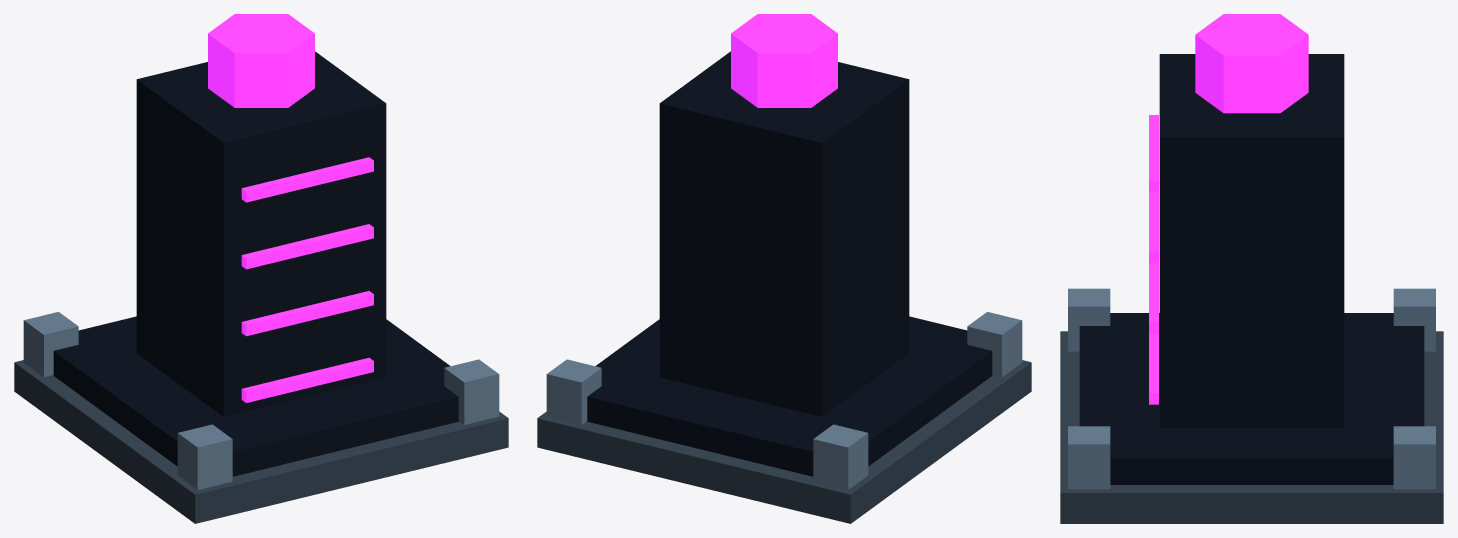
File: archive_low.glb
3 views of the same model, side by side, from view 1: azimuth 30°, elevation 25°; view 2: azimuth 150°, elevation 25°; view 3: azimuth 270°, elevation 25° (orthographic). The views are drawn at different scales.
Parts seen in each view (by area): view 1: Archive shell, Undercarriage, Foundation, Archive beacon, Corner lock.001, Corner lock.003, Corner lock, Repository slot.001, Repository slot.003, Repository slot, Repository slot.002; view 2: Archive shell, Undercarriage, Foundation, Archive beacon, Corner lock, Corner lock.002, Corner lock.001; view 3: Archive shell, Undercarriage, Foundation, Archive beacon, Corner lock.002, Corner lock.003, Corner lock, Corner lock.001, Repository slot.003, Repository slot.002, Repository slot, Repository slot.001.
Part boxes in pixels (x1=…): Archive shell: x1=136, y1=51, x2=386, y2=416; Undercarriage: x1=53, y1=316, x2=458, y2=476; Foundation: x1=14, y1=360, x2=508, y2=523; Archive beacon: x1=208, y1=14, x2=314, y2=107; Corner lock.001: x1=177, y1=424, x2=232, y2=489; Corner lock.003: x1=444, y1=359, x2=499, y2=424; Corner lock: x1=23, y1=312, x2=78, y2=377; Repository slot.001: x1=241, y1=291, x2=373, y2=336; Repository slot.003: x1=241, y1=157, x2=373, y2=202; Repository slot: x1=241, y1=357, x2=373, y2=402; Repository slot.002: x1=241, y1=224, x2=373, y2=269; Archive shell: x1=659, y1=51, x2=909, y2=416; Undercarriage: x1=587, y1=316, x2=992, y2=476; Foundation: x1=537, y1=360, x2=1031, y2=523; Archive beacon: x1=731, y1=14, x2=837, y2=107; Corner lock: x1=813, y1=424, x2=868, y2=489; Corner lock.002: x1=546, y1=359, x2=601, y2=424; Corner lock.001: x1=967, y1=312, x2=1022, y2=377; Archive shell: x1=1159, y1=54, x2=1344, y2=427; Undercarriage: x1=1079, y1=313, x2=1424, y2=484; Foundation: x1=1060, y1=331, x2=1443, y2=523; Archive beacon: x1=1195, y1=14, x2=1308, y2=113; Corner lock.002: x1=1393, y1=426, x2=1435, y2=489; Corner lock.003: x1=1068, y1=426, x2=1110, y2=489; Corner lock: x1=1393, y1=288, x2=1435, y2=351; Corner lock.001: x1=1068, y1=288, x2=1110, y2=351; Repository slot.003: x1=1149, y1=115, x2=1158, y2=192; Repository slot.002: x1=1149, y1=192, x2=1158, y2=263; Repository slot: x1=1149, y1=334, x2=1158, y2=404; Repository slot.001: x1=1149, y1=263, x2=1158, y2=333.
Bounding box in the file's own units: 2.7 × 3.18 × 2.7.
